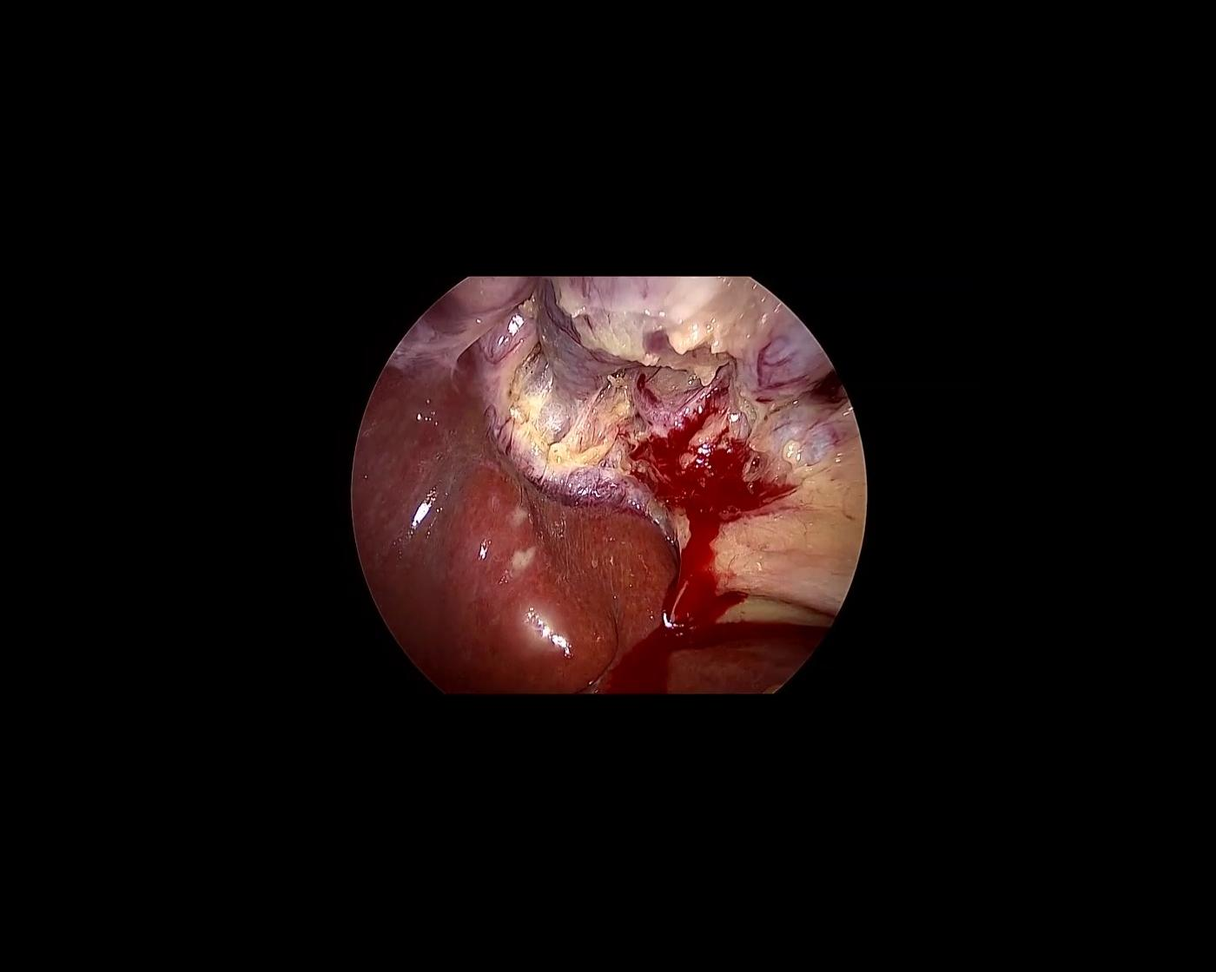Gallbladder: (434, 276, 785, 480)
Liver: (251, 334, 707, 769)
